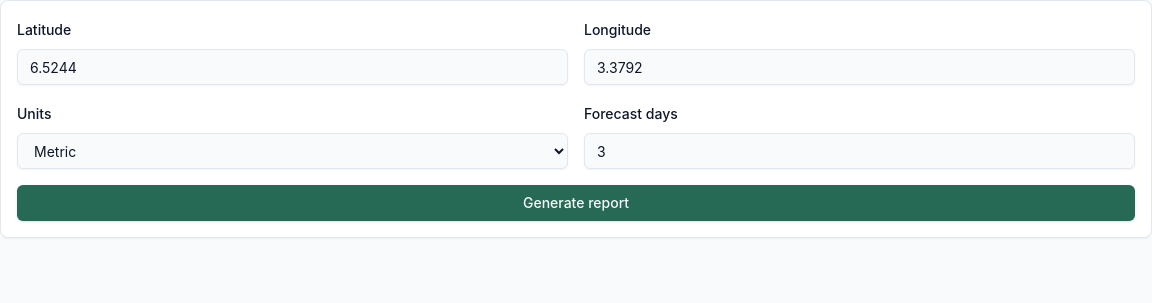
Test case: WeatherForm › shows validation errors and does not submit invalid values
Replace the text in the number field labelled "Latitude" with "91" at (292, 67), box [17, 49, 568, 85]
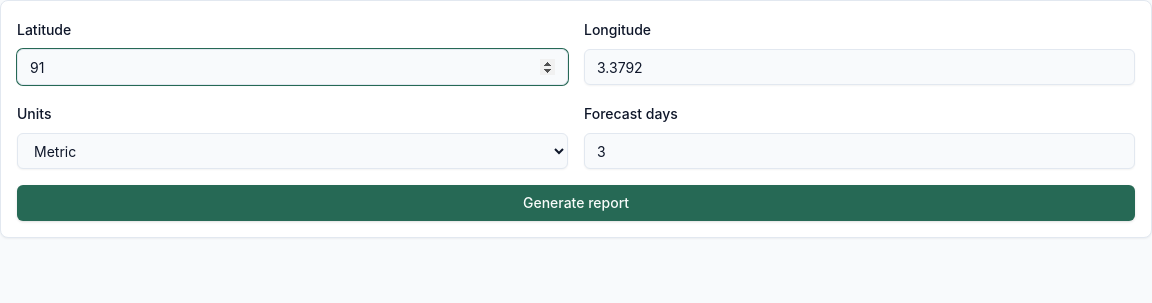
Replace the text in the number field labelled "Longitude" with "-181" at (860, 67), box [584, 49, 1135, 85]
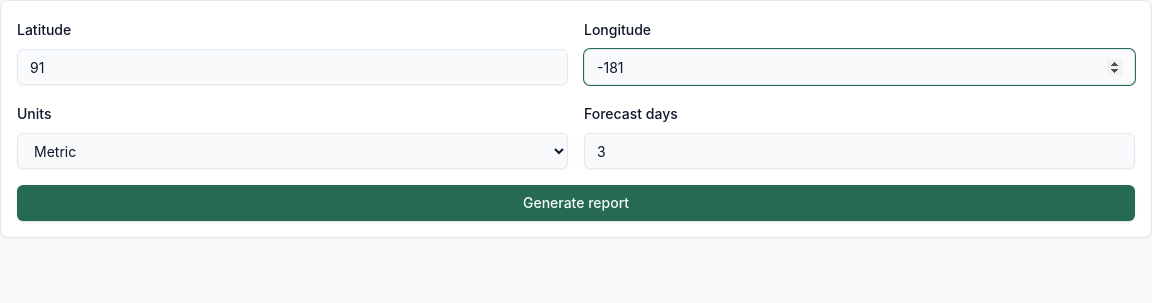
Replace the text in the number field labelled "Forecast days" with "8" at (860, 151), box [584, 133, 1135, 169]
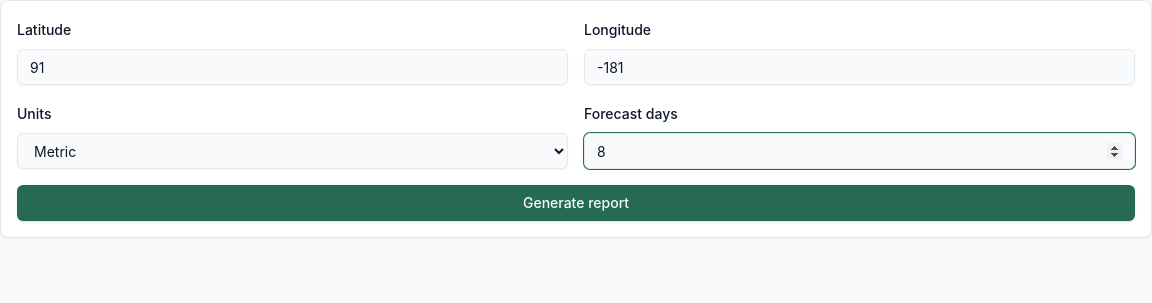
Click the button "Generate report".
click(576, 203)  # box [17, 185, 1135, 221]
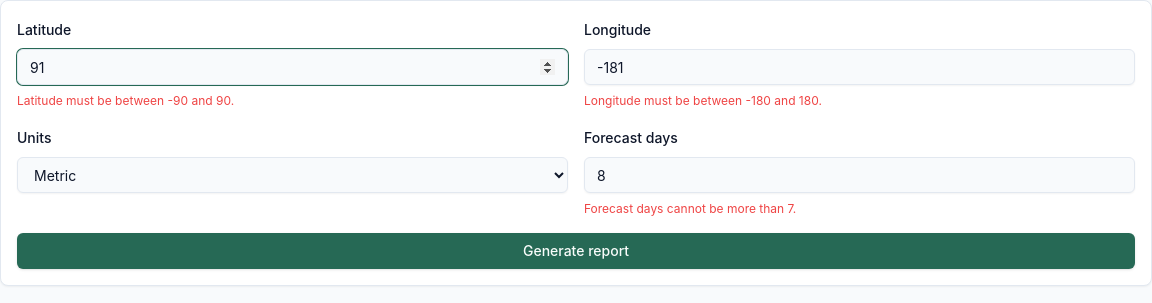
Now the text "Latitude must be between -90 and 90." is shown, box [17, 93, 234, 108]
Now the text "Longitude must be between -180 and 180." is shown, box [584, 93, 822, 108]
Now the text "Forecast days cannot be more than 7." is shown, box [584, 201, 796, 216]
